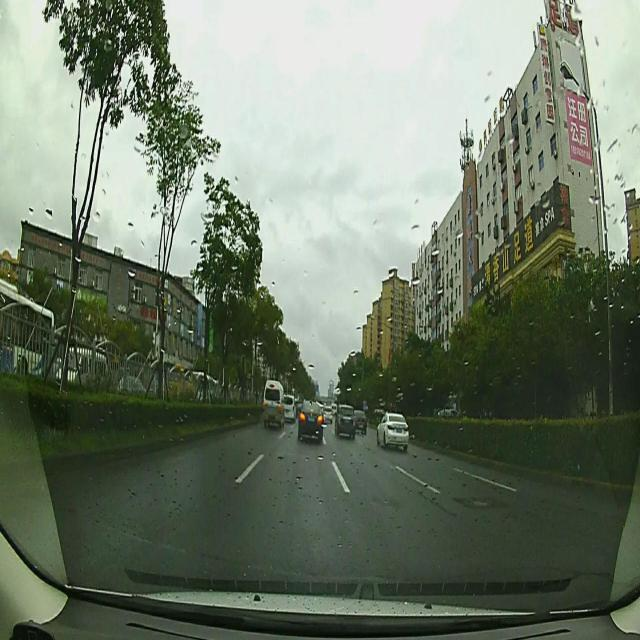car: (58, 344, 109, 390), (376, 412, 409, 446), (298, 398, 323, 442), (262, 380, 285, 424), (334, 404, 356, 436), (282, 393, 296, 420), (353, 408, 367, 433), (323, 405, 332, 423)
